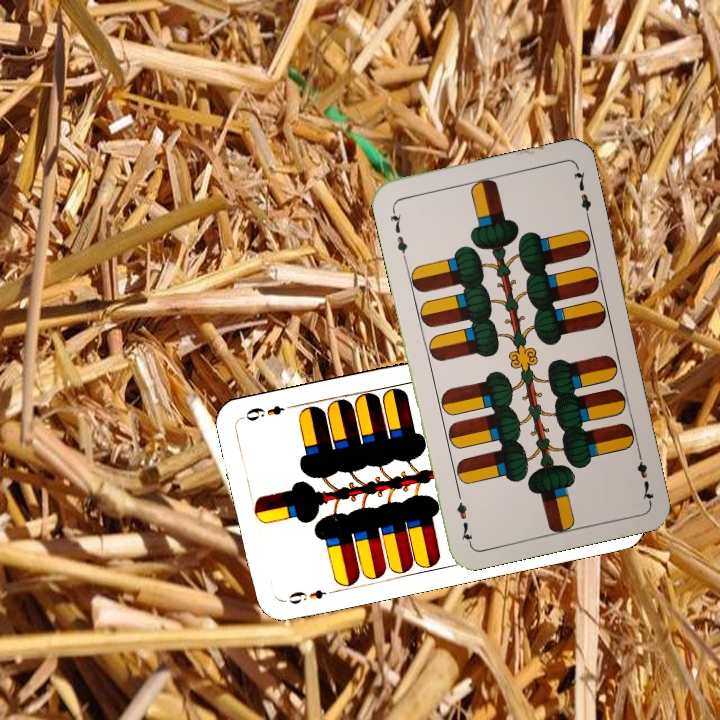E7: (386, 204, 410, 262), (633, 446, 657, 504)
E9: (278, 585, 337, 607)
